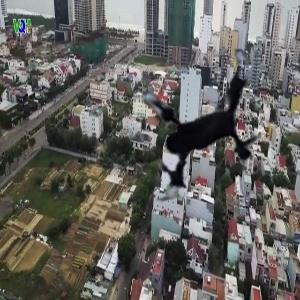drone: (96, 24, 291, 219)
